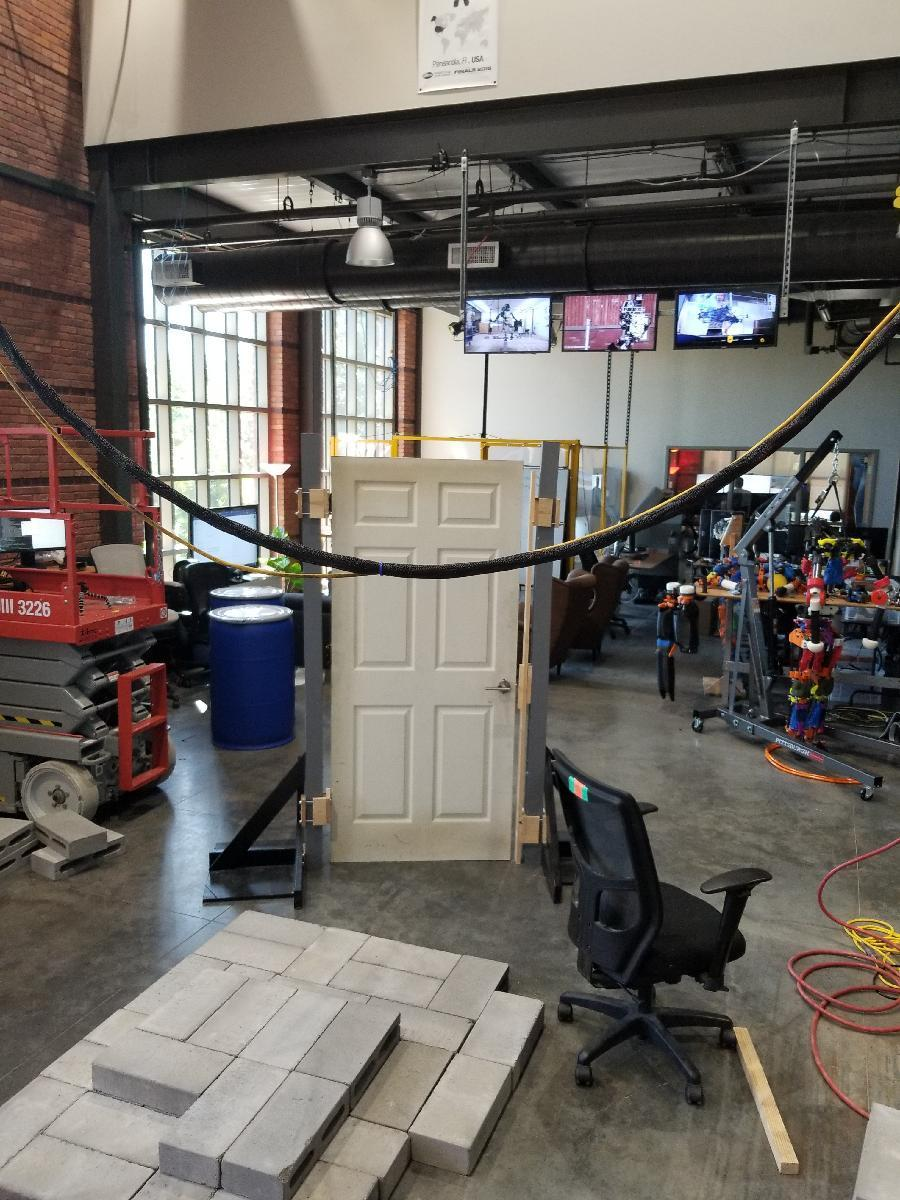door: (324, 452, 526, 868)
handle: (484, 678, 514, 697)
